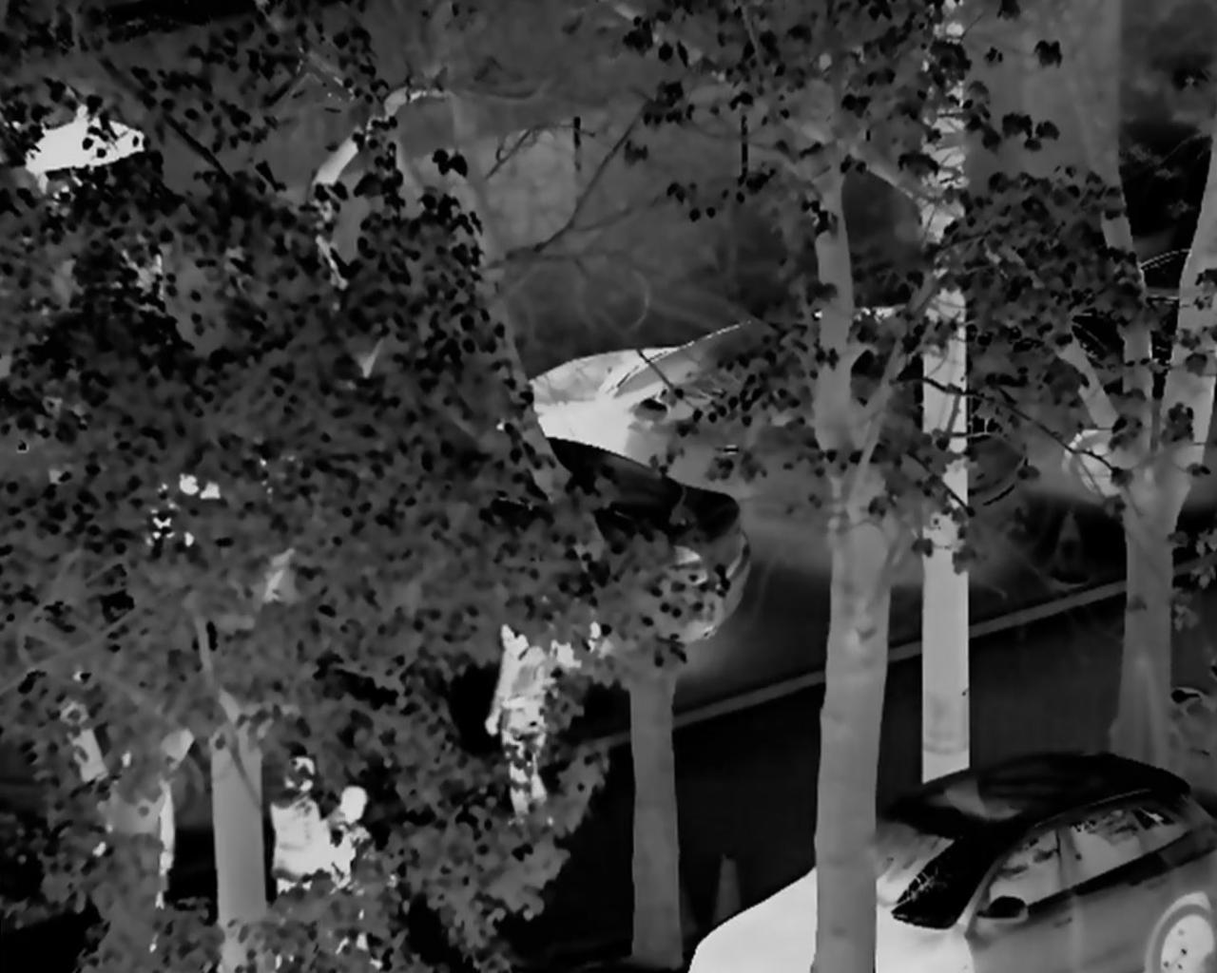person: (486, 616, 564, 849), (270, 741, 347, 973), (338, 785, 390, 973)
